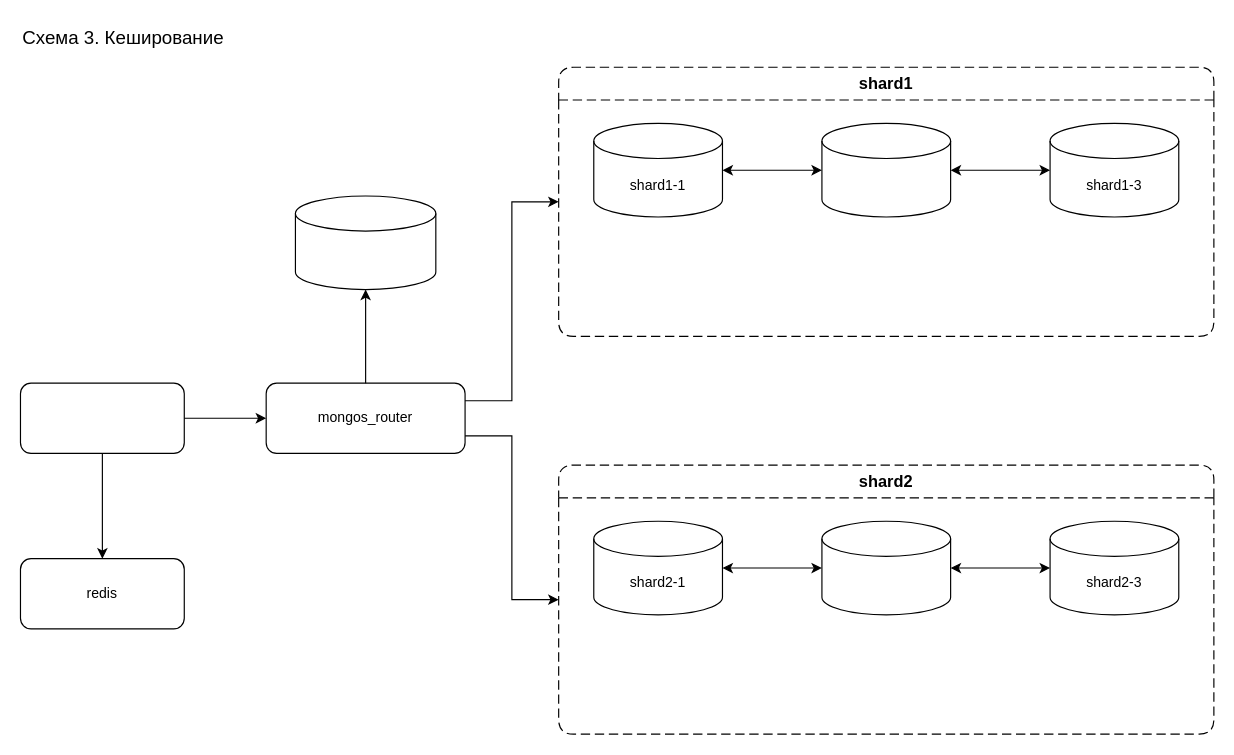
This 1234x755 diagram has some shape labels left out. The centre of each missing label's shape, as x and y in pixels:
configSrv: pixel 365 242
pymongo-api: pixel 101 417
shard1-2: pixel 886 169
shard2-2: pixel 886 567
